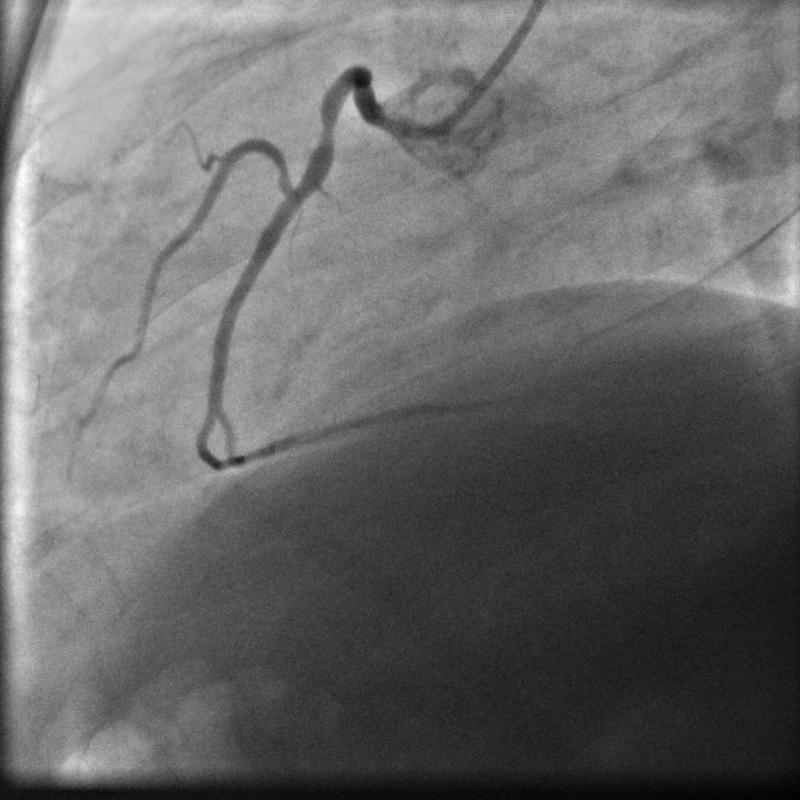Stenosis: (311, 117, 345, 147)
